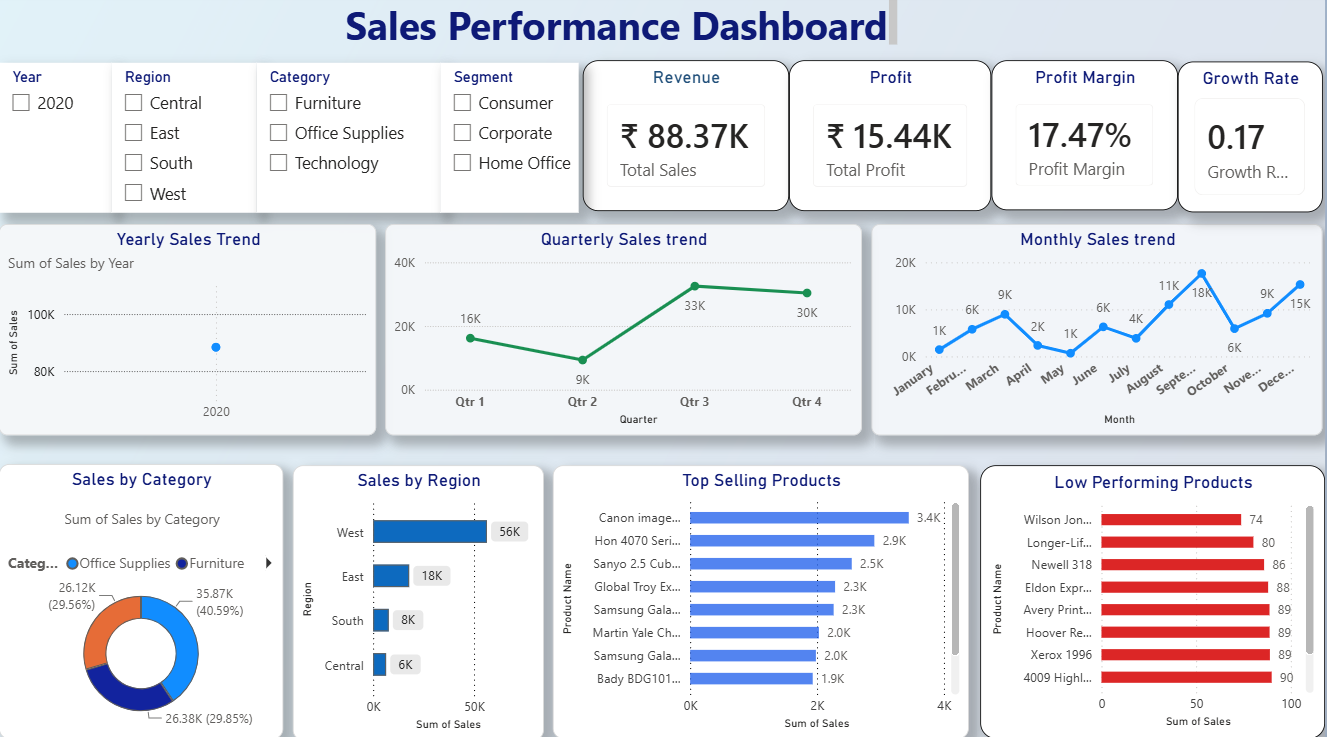

The page's visual inventory and layout, read from the dashboard file:
{"tool":"powerbi","page":{"name":"Page 1","canvas":[1280,720],"ordinal":0},"visuals":[{"type":"cardVisual","title":"Revenue","fields":{"Data":["Sales.Total Sales"]},"box":[559.8,66.4,190.6,146],"z":0},{"type":"cardVisual","title":"Profit","fields":{"Data":["Sales.Total Profit"]},"box":[751.6,66.4,195.4,146],"z":1000},{"type":"cardVisual","title":"Profit Margin","fields":{"Data":["Sales.Profit Margin"]},"box":[947.1,66.4,179.8,144.8],"z":2000},{"type":"donutChart","title":"Sales by Category","fields":{"Category":["Sales.Category"],"Y":["Sum(Sales.Sales)"]},"box":[0,453.7,274.6,265.7],"z":3000},{"type":"clusteredBarChart","title":"Sales by Region","fields":{"Y":["Sum(Sales.Sales)"],"Category":["Sales.Region"]},"box":[283.5,454.8,242.5,265.4],"z":4000},{"type":"clusteredBarChart","title":"Top Selling Products","fields":{"Y":["Sum(Sales.Sales)"],"Category":["Sales.Product Name"]},"box":[534.5,454.8,401.7,264.2],"z":5000},{"type":"textbox","box":[329.4,0,542.9,56.7],"z":6000},{"type":"slicer","fields":{"Values":["Sales.Order Date.Variation.Date Hierarchy.Year"]},"box":[0,66.4,108.6,144.8],"z":7000},{"type":"slicer","fields":{"Values":["Sales.Region"]},"box":[108.6,66.4,139.9,144.8],"z":8000},{"type":"slicer","fields":{"Values":["Sales.Category"]},"box":[248.5,66.4,168.9,144.8],"z":9000},{"type":"slicer","fields":{"Values":["Sales.Segment"]},"box":[417.4,66.4,133.9,144.8],"z":10000},{"type":"clusteredBarChart","title":"Low Performing Products","fields":{"Y":["Sum(Sales.Sales)"],"Category":["Sales.Product Name"]},"box":[947.1,454.8,333,264.2],"z":11000},{"type":"lineChart","title":"Yearly Sales Trend","fields":{"Y":["Sum(Sales.Sales)"],"Category":["Sales.Order Date.Variation.Date Hierarchy.Year","Sales.Order Date.Variation.Date Hierarchy.Quarter"]},"box":[0,222,364.3,203.9],"z":12000},{"type":"lineChart","title":"Quarterly Sales trend","fields":{"Category":["Sales.Order Date.Variation.Date Hierarchy.Year","Sales.Order Date.Variation.Date Hierarchy.Quarter","Sales.Order Date.Variation.Date Hierarchy.Month"],"Y":["Sum(Sales.Sales)"]},"box":[372.8,222,459.7,203.9],"z":13000},{"type":"lineChart","title":"Monthly Sales trend","fields":{"Category":["Sales.Order Date.Variation.Date Hierarchy.Year","Sales.Order Date.Variation.Date Hierarchy.Quarter","Sales.Order Date.Variation.Date Hierarchy.Month"],"Y":["Sum(Sales.Sales)"]},"box":[842.1,222,435.5,203.9],"z":14000},{"type":"cardVisual","title":"Growth Rate","fields":{"Data":["Sales.Growth Rate"]},"box":[1126.8,66.4,150.8,146],"z":15000}]}

Visuals, with their boxes in screenshot pixels (x1, y1, x2, y2), scaled from the page's 1280x720 canvas onto the 1327x737 screenshot:
"Revenue" cardVisual: pyautogui.locateOnScreen(580, 68, 778, 217)
"Profit" cardVisual: pyautogui.locateOnScreen(779, 68, 982, 217)
"Profit Margin" cardVisual: pyautogui.locateOnScreen(982, 68, 1168, 216)
"Sales by Category" donutChart: pyautogui.locateOnScreen(0, 464, 285, 736)
"Sales by Region" clusteredBarChart: pyautogui.locateOnScreen(294, 466, 545, 736)
"Top Selling Products" clusteredBarChart: pyautogui.locateOnScreen(554, 466, 971, 736)
textbox: pyautogui.locateOnScreen(341, 0, 904, 58)
slicer - Sales.Order Date.Variation.Date Hierarchy.Year: pyautogui.locateOnScreen(0, 68, 113, 216)
slicer - Sales.Region: pyautogui.locateOnScreen(113, 68, 258, 216)
slicer - Sales.Category: pyautogui.locateOnScreen(258, 68, 433, 216)
slicer - Sales.Segment: pyautogui.locateOnScreen(433, 68, 572, 216)
"Low Performing Products" clusteredBarChart: pyautogui.locateOnScreen(982, 466, 1326, 736)
"Yearly Sales Trend" lineChart: pyautogui.locateOnScreen(0, 227, 378, 436)
"Quarterly Sales trend" lineChart: pyautogui.locateOnScreen(386, 227, 863, 436)
"Monthly Sales trend" lineChart: pyautogui.locateOnScreen(873, 227, 1325, 436)
"Growth Rate" cardVisual: pyautogui.locateOnScreen(1168, 68, 1325, 217)
